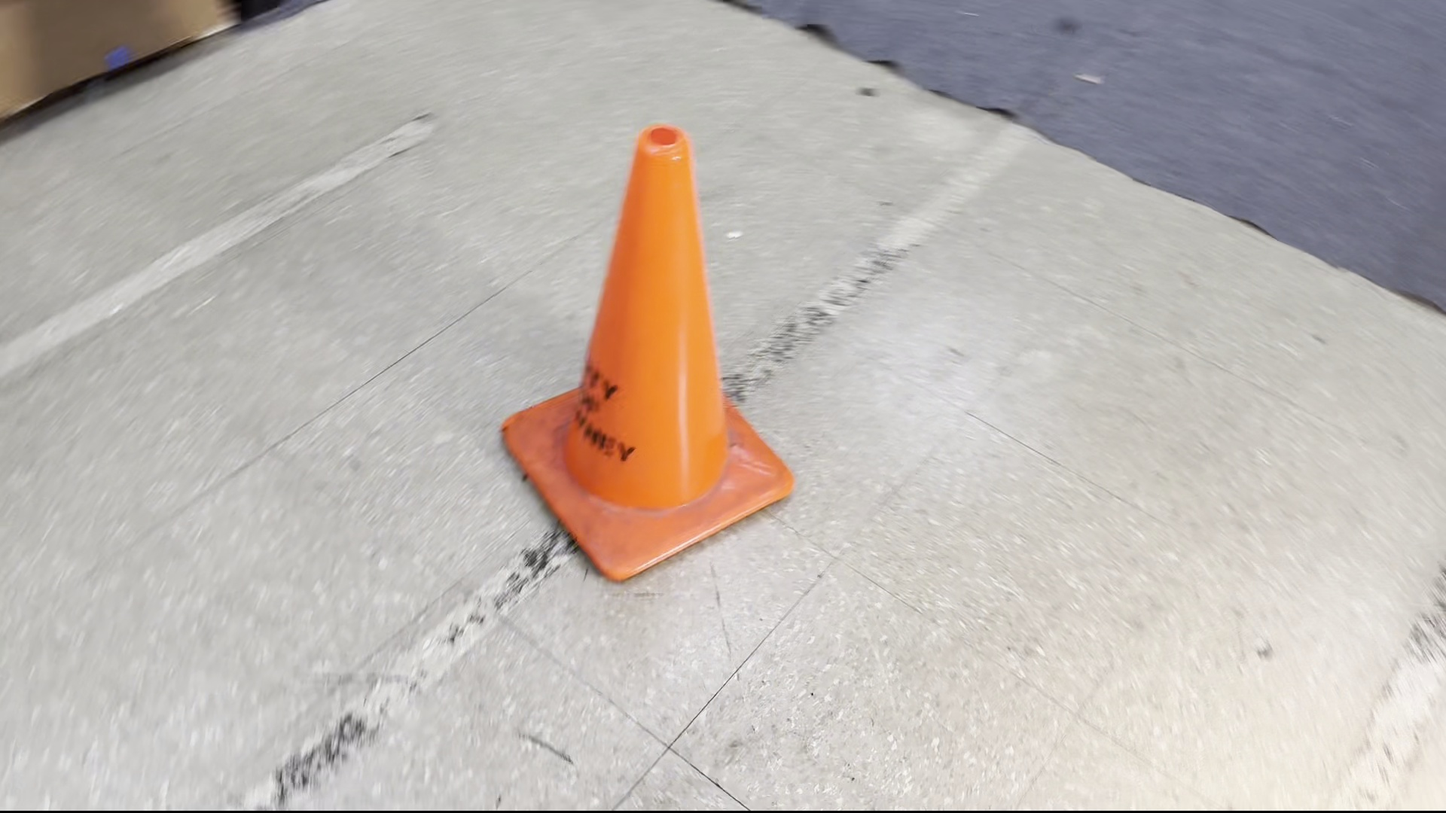traffic_cone: (499, 122, 795, 583)
